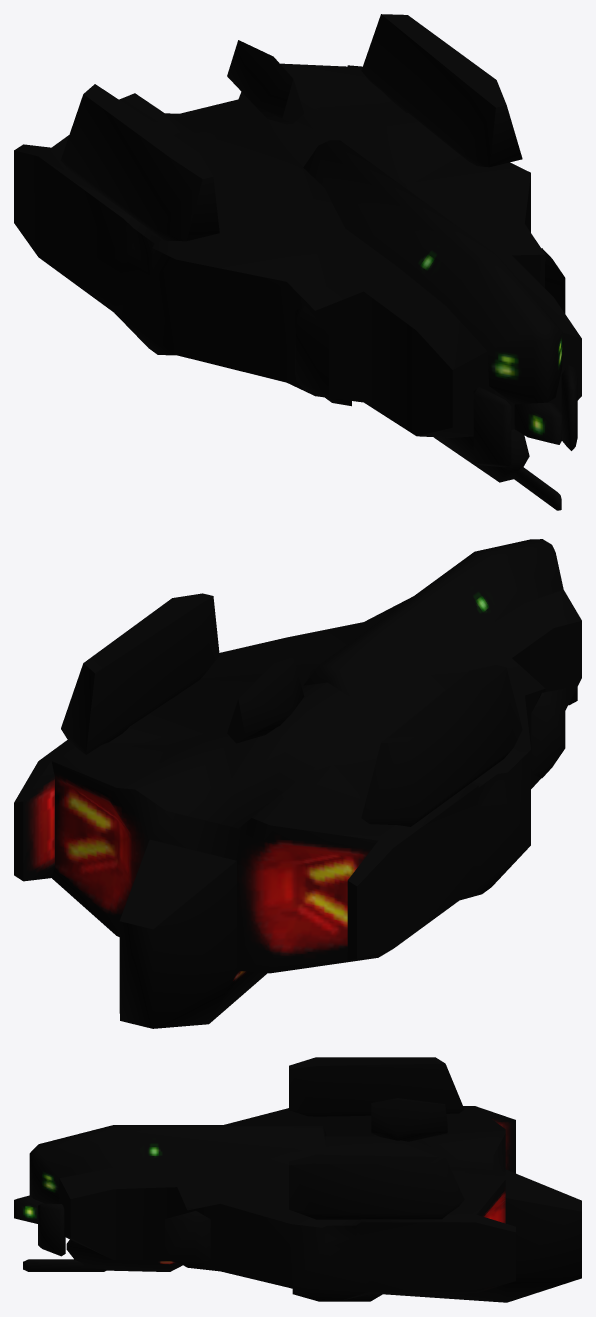
File: tan_sc_assa_01_t2.glb
3 renders of one model, top to bottom at view 1: azimuth 30°, elevation 25°; view 2: azimuth 150°, elevation 25°; view 3: azimuth 270°, elevation 25°, orthographic. The views are drawn at different scales.
Parts seen in each view (by area): view 1: Tan_Assault_Corvette_01_LOD0; view 2: Tan_Assault_Corvette_01_LOD0; view 3: Tan_Assault_Corvette_01_LOD0.
Boxes of the visible parts, x1,y1,x2,y2 form: Tan_Assault_Corvette_01_LOD0: [14, 14, 581, 510]; Tan_Assault_Corvette_01_LOD0: [14, 539, 581, 1028]; Tan_Assault_Corvette_01_LOD0: [14, 1057, 581, 1302].
Size of what is drawn, in the model's own units: 0.3643 by 0.2943 by 0.7436.
Materials: 1 (1 with a texture image).
